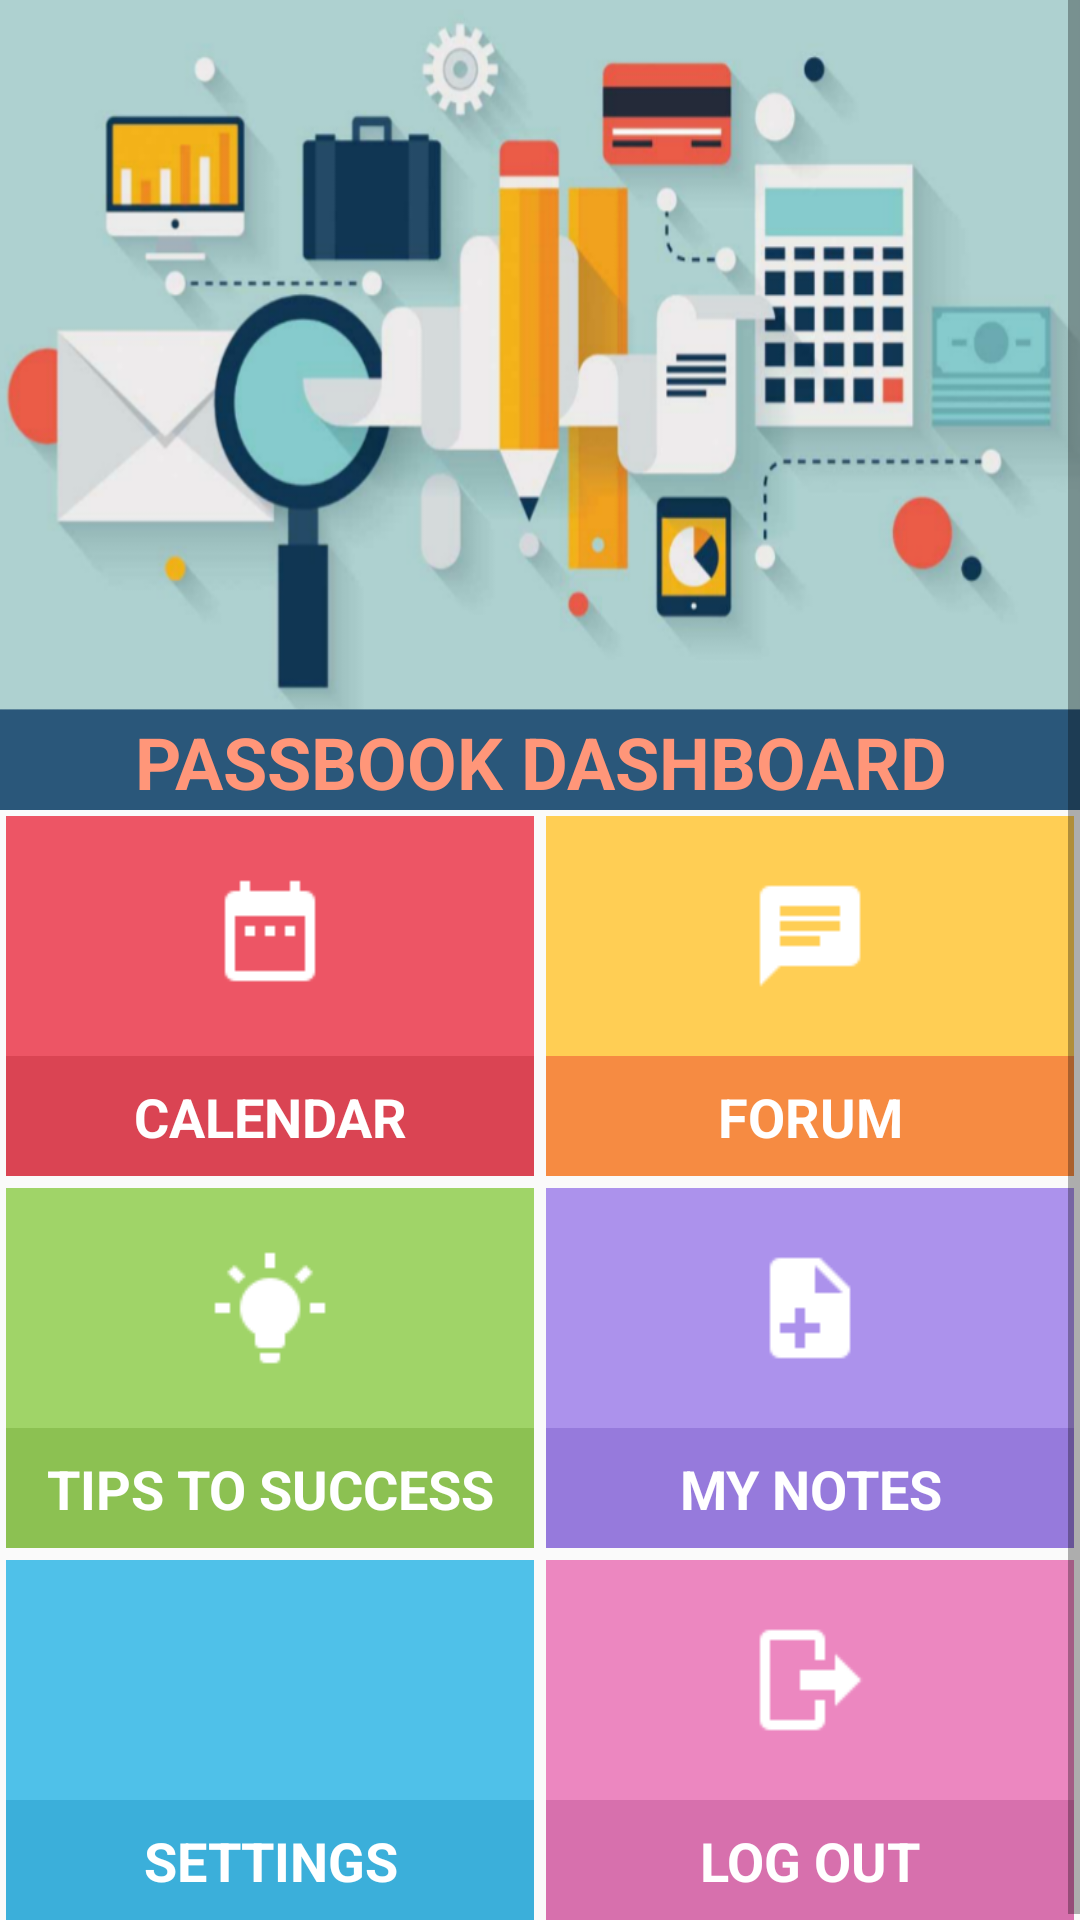

Locate icon controls on the screen. Image size 1080px x 1920px, boxes as BBox(x1, y1, x2, y2).
date: BBox(224, 880, 316, 982)
